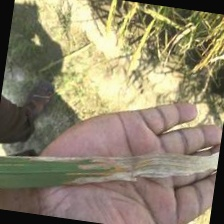Leaf_Blast: (59, 153, 209, 176)
